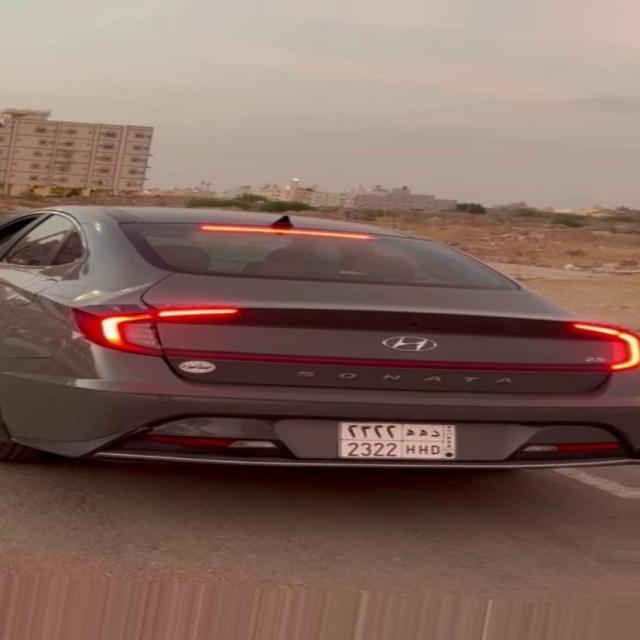Car-plate: (320, 410, 477, 474)
